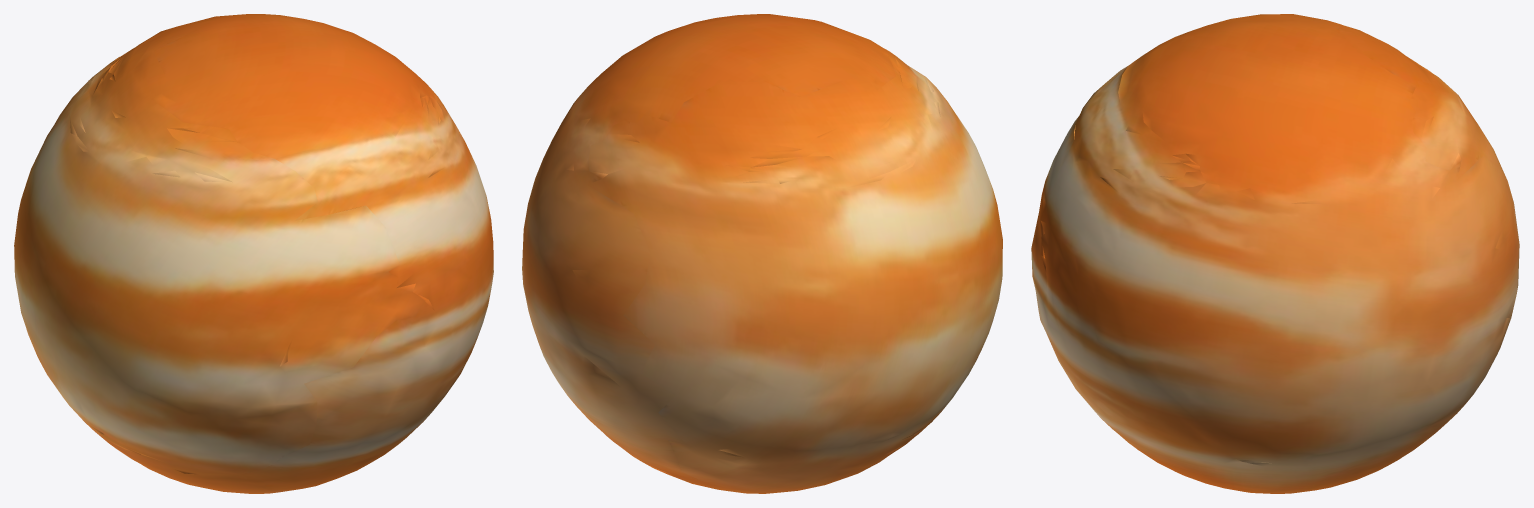
The model's file is m2RingedPlanetBg.glb.
3 views of the same model, side by side, from view 1: azimuth 30°, elevation 25°; view 2: azimuth 150°, elevation 25°; view 3: azimuth 270°, elevation 25° (orthographic).
Parts seen in each view (by area): view 1: model; view 2: model; view 3: model.
Boxes of the visible parts, box(x1,y1,x2,y2) form: model: box(14, 14, 493, 493); model: box(522, 14, 1002, 493); model: box(1031, 14, 1519, 493).
Bounding box in the file's own units: 1.85 × 1.84 × 1.9.
Materials: 1 (1 with a texture image).
